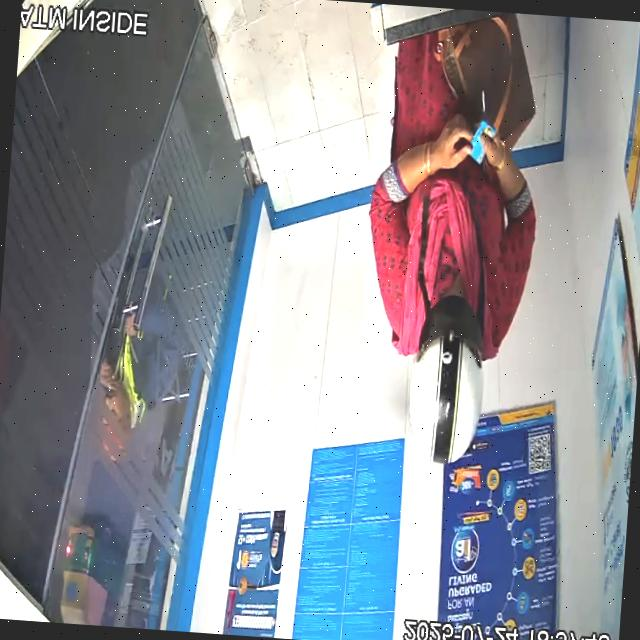helmet: (410, 291, 484, 465)
